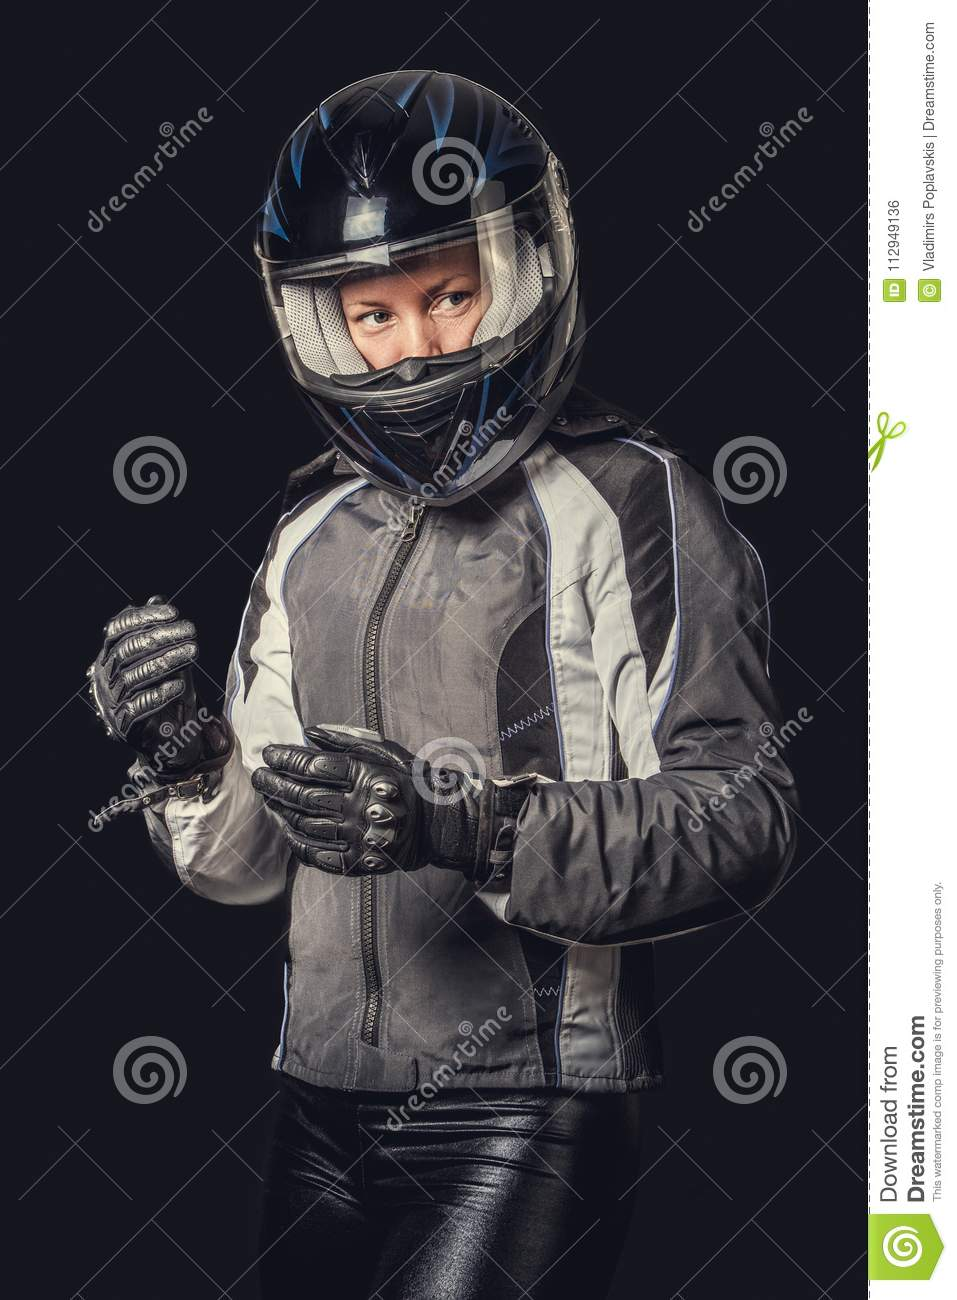helmet: (240, 91, 600, 488)
